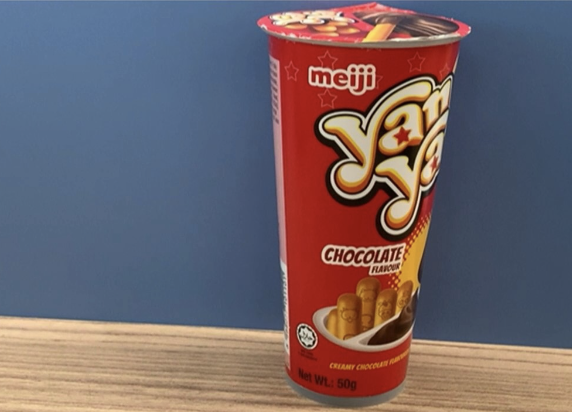cookies_50g: (283, 56, 416, 390)
